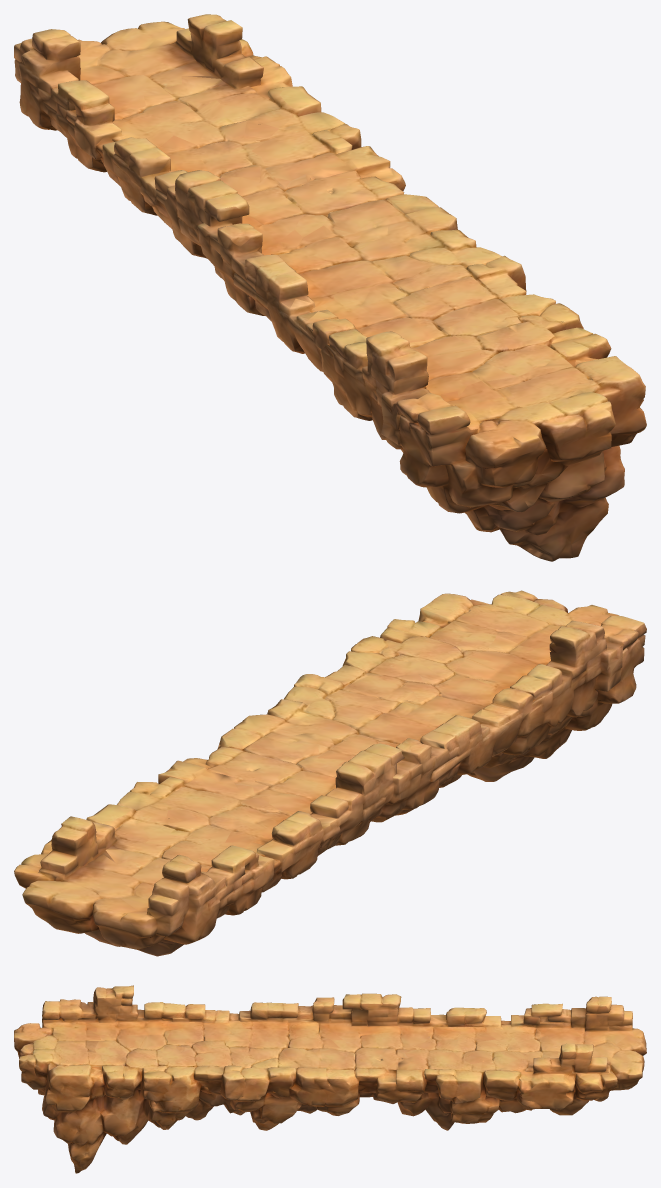
File: R1_Island_Bridge.fbx
3 renders of one model, top to bottom at view 1: azimuth 30°, elevation 25°; view 2: azimuth 150°, elevation 25°; view 3: azimuth 270°, elevation 25°, orthographic. The views are drawn at different scales.
Parts seen in each view (by area): view 1: R1_Island_Bridge; view 2: R1_Island_Bridge; view 3: R1_Island_Bridge.
Boxes of the visible parts, box(x1,y1,x2,y2) form: R1_Island_Bridge: box(14, 14, 646, 561); R1_Island_Bridge: box(14, 590, 646, 956); R1_Island_Bridge: box(14, 985, 646, 1173).
Size of the model in its own units: 420 by 350 by 1400.
Materials: 1 (1 with a texture image).
